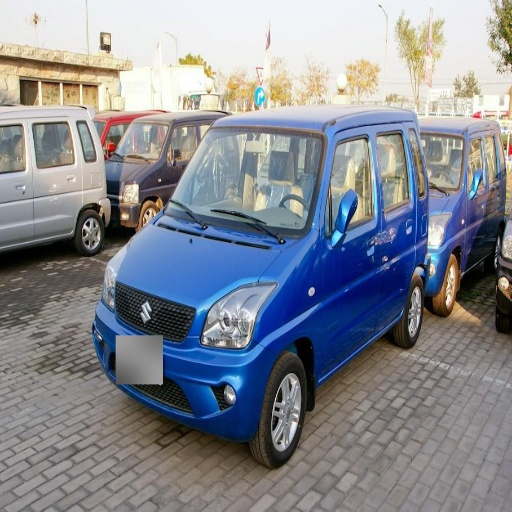front_bumper: (94, 282, 277, 439)
front_glass: (172, 127, 326, 240)
front_left_door: (320, 136, 381, 374), (2, 171, 35, 240)
trunk: (402, 188, 486, 273)
